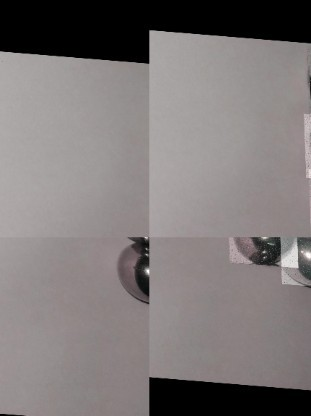ironball: (116, 239, 150, 307), (226, 237, 297, 264), (278, 237, 311, 283)
